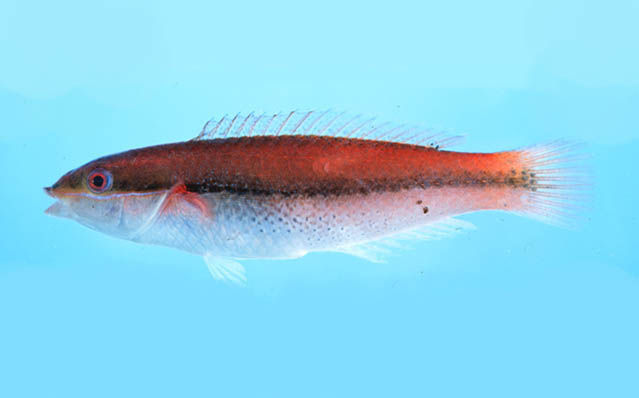fish: (44, 110, 599, 289)
